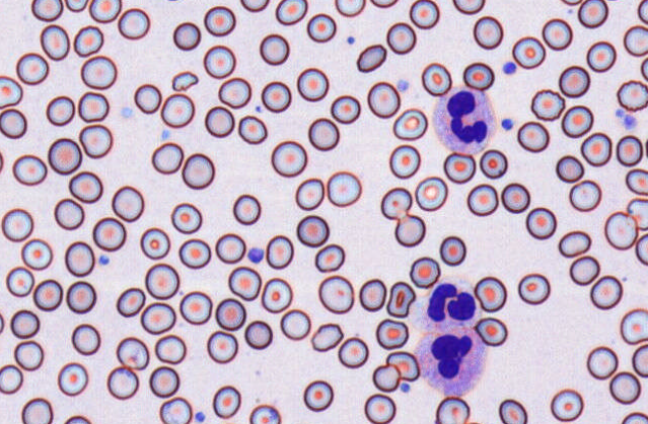GRAN: (431, 83, 499, 157), (410, 274, 483, 332)
MONO: (415, 329, 490, 399)
PLT: (247, 246, 265, 264), (621, 113, 640, 130), (501, 116, 516, 132), (501, 61, 517, 75), (160, 126, 171, 142), (122, 105, 134, 119), (193, 411, 207, 422), (400, 381, 411, 394), (614, 107, 625, 118), (98, 255, 109, 265), (346, 36, 357, 45), (254, 103, 262, 114)
RBC: (270, 140, 307, 177), (318, 275, 354, 313), (604, 211, 638, 250), (47, 137, 82, 174), (144, 263, 179, 299), (326, 170, 361, 206), (80, 55, 117, 89), (160, 92, 194, 128), (367, 81, 400, 118), (181, 152, 214, 189), (111, 185, 144, 222), (92, 216, 126, 251), (78, 123, 112, 158), (227, 266, 261, 300), (414, 176, 447, 211), (140, 302, 176, 334), (474, 276, 506, 312), (106, 365, 139, 399), (116, 336, 149, 370), (68, 170, 102, 203), (179, 290, 212, 324), (530, 88, 565, 120), (392, 108, 427, 140), (261, 277, 292, 313), (550, 388, 583, 421), (512, 36, 545, 69), (296, 214, 329, 247), (586, 345, 618, 379), (590, 275, 622, 309), (1, 207, 33, 241), (296, 67, 328, 101), (580, 132, 612, 166), (203, 44, 235, 78), (12, 154, 47, 185), (64, 240, 94, 276), (609, 371, 641, 404), (117, 7, 150, 39), (16, 52, 48, 85), (466, 183, 498, 216), (206, 330, 238, 363), (443, 151, 476, 183), (57, 362, 88, 396), (308, 117, 339, 151), (389, 144, 420, 178), (40, 24, 69, 60), (380, 187, 412, 219), (569, 179, 601, 211), (558, 65, 590, 97), (561, 105, 593, 137), (151, 142, 183, 174), (394, 214, 425, 247), (375, 318, 408, 349), (53, 197, 84, 230), (525, 206, 556, 239), (218, 77, 251, 108), (215, 297, 246, 330), (517, 273, 550, 304), (421, 62, 451, 96), (473, 15, 503, 49), (616, 79, 647, 111), (409, 256, 440, 288), (21, 238, 52, 270), (541, 18, 572, 50), (337, 336, 368, 368), (517, 121, 549, 152), (203, 5, 235, 36), (77, 91, 109, 122), (170, 202, 202, 233), (33, 278, 63, 311), (474, 316, 507, 346), (303, 379, 333, 412), (66, 280, 96, 313), (178, 238, 211, 268), (265, 234, 293, 269), (620, 308, 647, 344), (364, 393, 396, 423), (149, 365, 179, 397), (154, 334, 186, 364), (280, 308, 310, 340), (386, 22, 416, 54), (259, 33, 289, 65), (586, 40, 616, 72), (204, 105, 234, 137), (140, 227, 170, 259), (212, 385, 241, 418), (295, 177, 324, 210), (569, 255, 600, 285), (73, 25, 103, 56), (45, 95, 75, 126), (261, 81, 291, 112), (71, 323, 100, 355), (232, 193, 261, 225), (435, 396, 469, 423), (13, 340, 43, 370), (330, 94, 360, 124), (215, 233, 245, 263), (5, 266, 34, 297), (501, 182, 530, 213), (314, 243, 345, 272), (462, 62, 494, 90), (159, 396, 192, 423), (558, 230, 591, 257), (359, 278, 386, 311), (356, 43, 386, 72), (409, 0, 439, 29), (116, 287, 145, 317), (306, 13, 336, 42), (577, 0, 608, 28), (616, 134, 643, 166), (10, 309, 39, 338), (172, 21, 201, 50), (238, 115, 267, 144), (479, 149, 507, 179), (439, 235, 466, 266), (134, 83, 161, 114), (21, 397, 53, 423), (372, 363, 400, 392), (555, 154, 584, 182), (244, 320, 272, 349), (0, 108, 27, 138), (275, 0, 307, 25), (623, 24, 647, 56), (88, 0, 121, 23), (0, 75, 22, 108), (498, 398, 527, 423), (626, 197, 647, 230), (0, 364, 23, 394), (31, 0, 63, 21), (625, 168, 647, 195), (249, 404, 280, 423), (334, 0, 365, 17), (632, 344, 647, 377), (452, 0, 485, 14), (635, 233, 647, 265), (240, 0, 269, 12), (621, 411, 647, 423), (64, 0, 88, 12), (637, 0, 648, 24), (63, 414, 91, 423), (370, 0, 398, 8), (640, 56, 647, 81), (560, 0, 582, 5), (645, 138, 648, 158), (163, 0, 185, 2)
Schistocyte: (384, 351, 420, 382), (387, 281, 416, 318), (311, 323, 345, 354), (170, 71, 198, 91)
